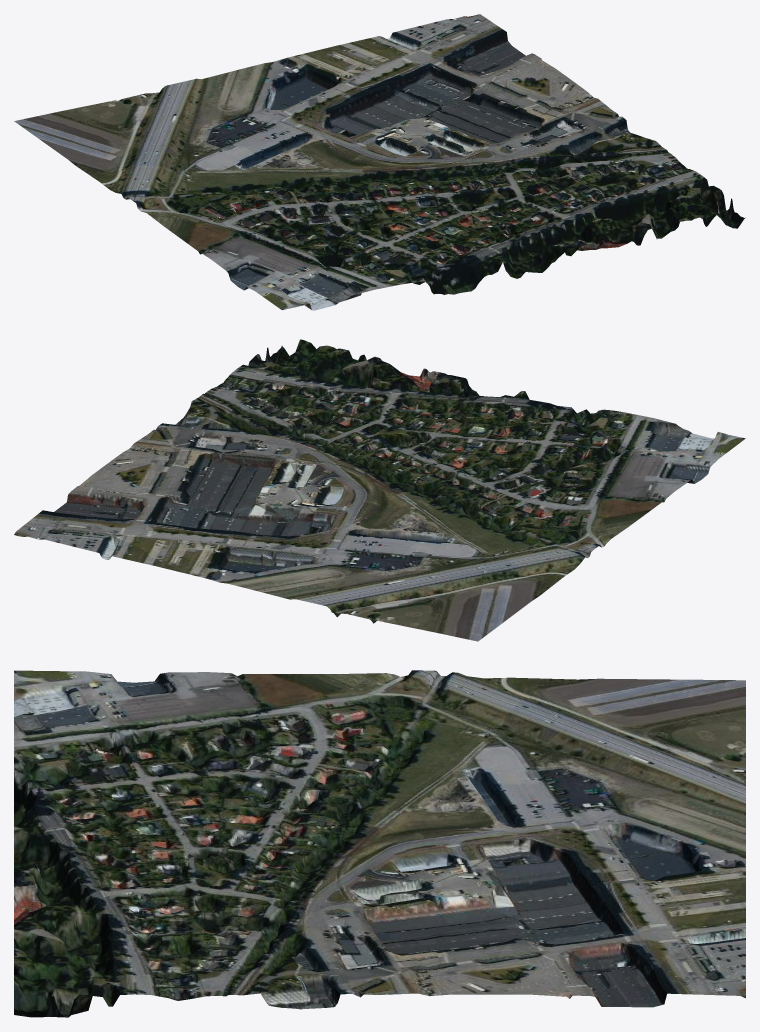
Rendered from map_12_1020_1725.dae.
The picture shows the model from 3 angles, top to bottom: view 1: azimuth 30°, elevation 25°; view 2: azimuth 150°, elevation 25°; view 3: azimuth 270°, elevation 25°; orthographic projection. The views are drawn at different scales.
Visible parts, largest first — view 1: Ter0; view 2: Ter0; view 3: Ter0.
Part boxes in pixels (left/top/right/bottom): Ter0: left=14, top=14, right=745, bottom=310; Ter0: left=14, top=339, right=745, bottom=641; Ter0: left=14, top=670, right=745, bottom=1017.
Size of the model in its own units: 511 by 511 by 32.45.
Materials: 3 (3 with a texture image).
